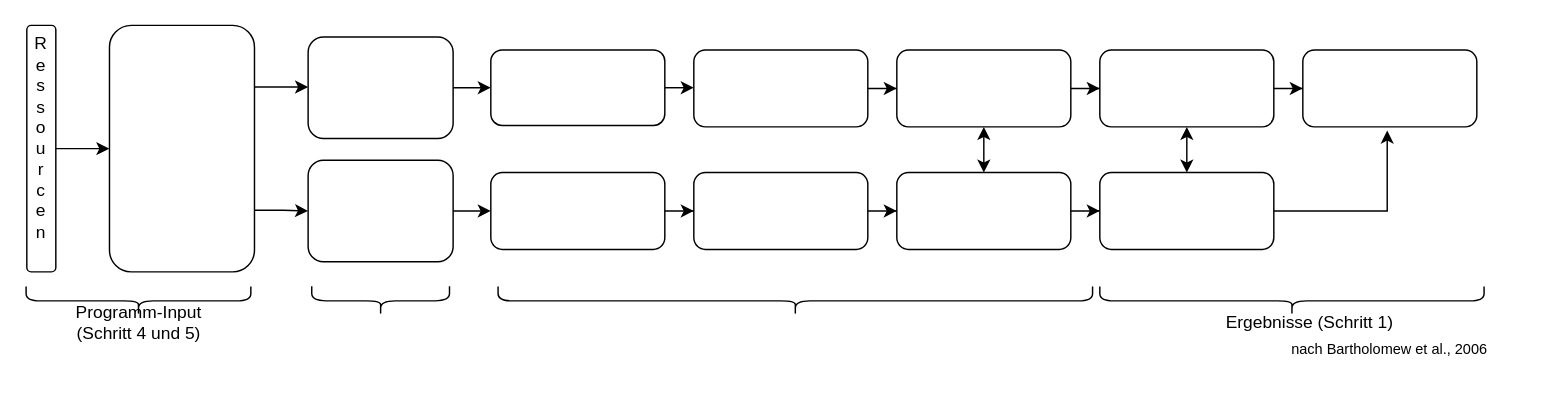
Some shapes in this 1566 by 394 pixel diagram are drawn without their labels. Here are the shapes that lost their labels. From the top down, the centre of each, then its label:
At (x=380, y=300): "Programm-Output (Schritt 3)".
At (x=795, y=300): "Logik der Veränderung (Schritt 2)".
